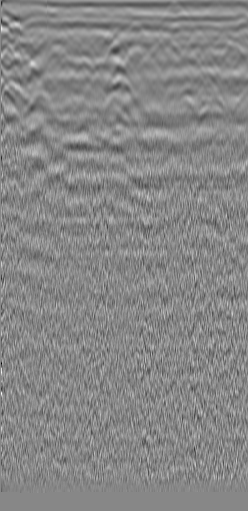가스: (233, 160, 248, 190)
상수: (11, 32, 31, 52)
우수: (142, 34, 162, 54)
